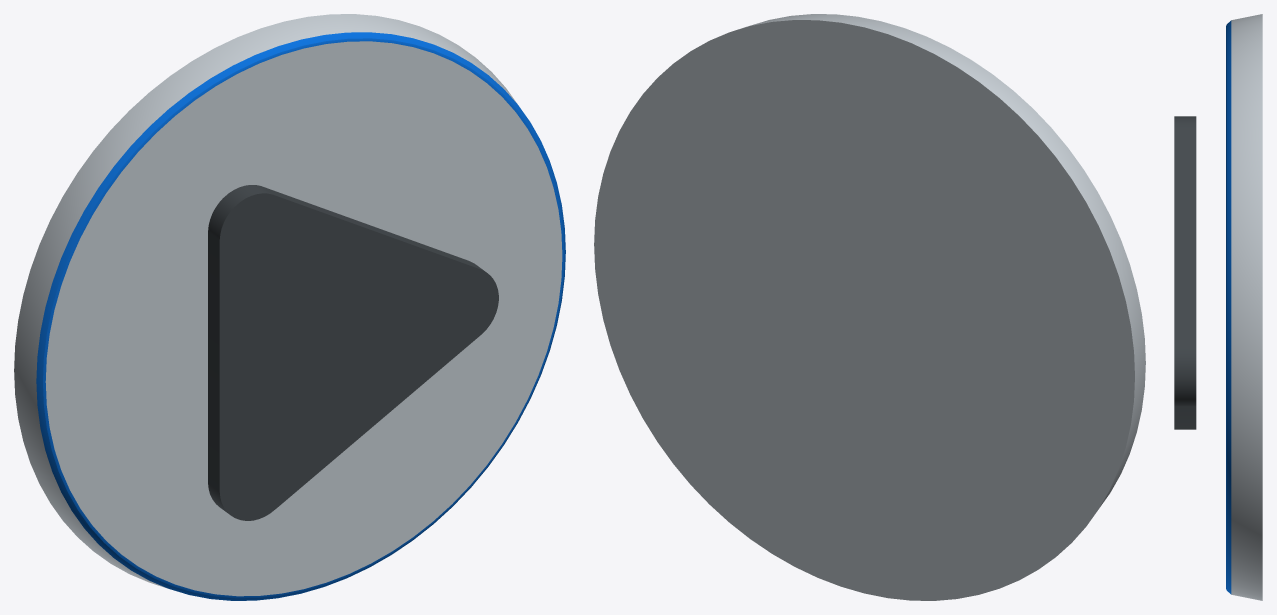
File: media-icon-416f95.glb
3 views of the same model, side by side, from view 1: azimuth 30°, elevation 25°; view 2: azimuth 150°, elevation 25°; view 3: azimuth 270°, elevation 25° (orthographic). The views are drawn at different scales.
Parts seen in each view (by area): view 1: icon; view 2: icon; view 3: icon.
Part boxes in pixels (bbox=[...]): icon: bbox=[14, 14, 565, 600]; icon: bbox=[594, 14, 1145, 600]; icon: bbox=[1174, 14, 1262, 600].
Bounding box in the file's own units: 0.08 × 0.08 × 0.012.
